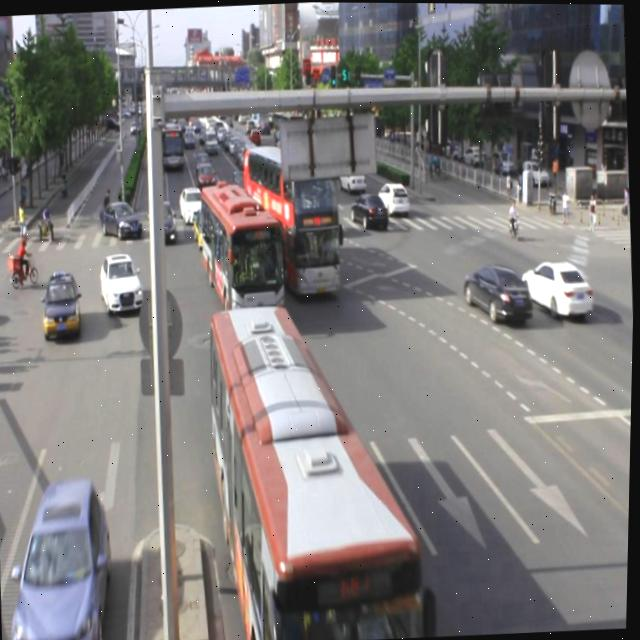car: (7, 477, 119, 640), (519, 256, 595, 319), (461, 261, 534, 325), (99, 251, 146, 315)
van: (206, 297, 432, 640), (242, 142, 343, 296), (198, 182, 289, 319)
